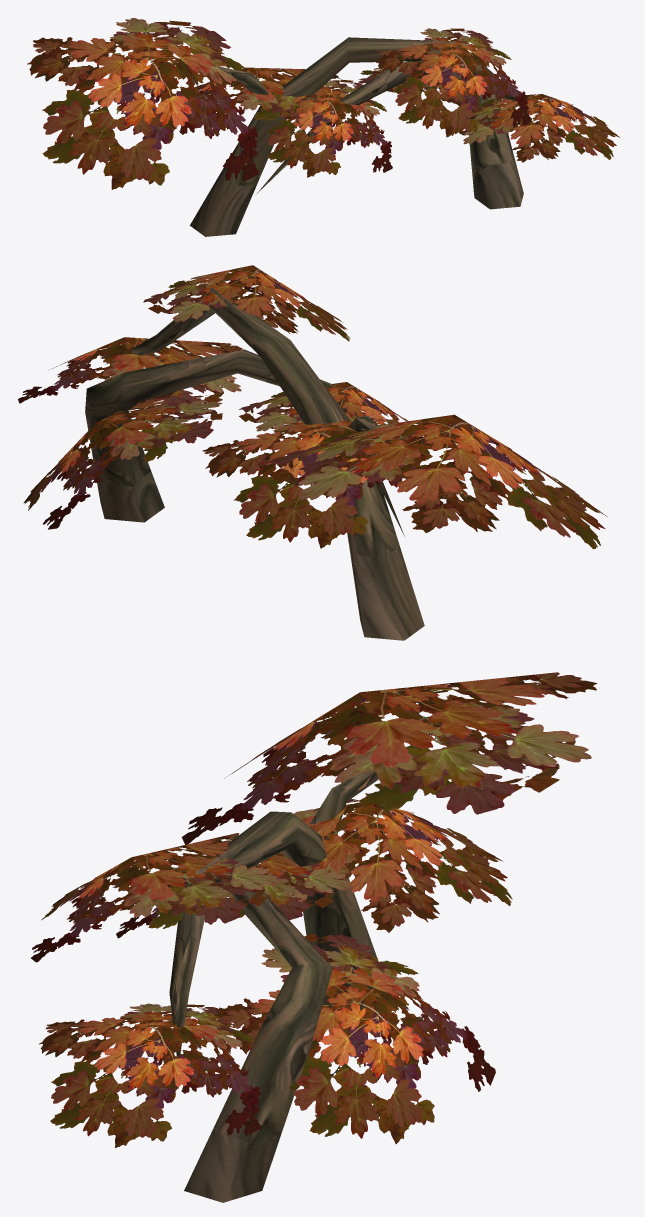
The model's file is SL_shu03.FBX.
3 views of the same model, one above another, from view 1: azimuth 30°, elevation 25°; view 2: azimuth 150°, elevation 25°; view 3: azimuth 270°, elevation 25° (orthographic). The views are drawn at different scales.
Parts seen in each view (by area): view 1: 对象283, 对象284, Cylinder15, 对象285, 对象282, Cylinder16, 对象280, 对象281; view 2: 对象283, Cylinder15, 对象280, Cylinder16, 对象281, 对象284, 对象282, 对象285; view 3: 对象283, 对象281, 对象282, Cylinder16, 对象280, 对象284, Cylinder15, 对象285.
Boxes of the visible parts, x1,y1,x2,y2 form: 对象283: (27, 18, 259, 189); 对象284: (375, 28, 531, 137); Cylinder15: (176, 37, 543, 236); 对象285: (258, 79, 392, 177); 对象282: (454, 94, 620, 162); Cylinder16: (256, 61, 523, 209); 对象280: (195, 67, 339, 124); 对象281: (358, 67, 481, 112); 对象283: (268, 414, 607, 549); Cylinder15: (105, 287, 424, 640); 对象280: (202, 412, 444, 548); Cylinder16: (85, 349, 404, 536); 对象281: (23, 391, 222, 529); 对象284: (143, 265, 350, 341); 对象282: (18, 337, 242, 409); 对象285: (239, 382, 431, 459); 对象283: (181, 672, 597, 844); 对象281: (214, 933, 495, 1144); 对象282: (39, 1003, 261, 1147); Cylinder16: (184, 878, 332, 1202); 对象280: (271, 799, 512, 932); 对象284: (31, 833, 281, 962); Cylinder15: (169, 771, 384, 1057); 对象285: (116, 853, 353, 938).
Bounding box in the file's own units: 652 × 220 × 439.
